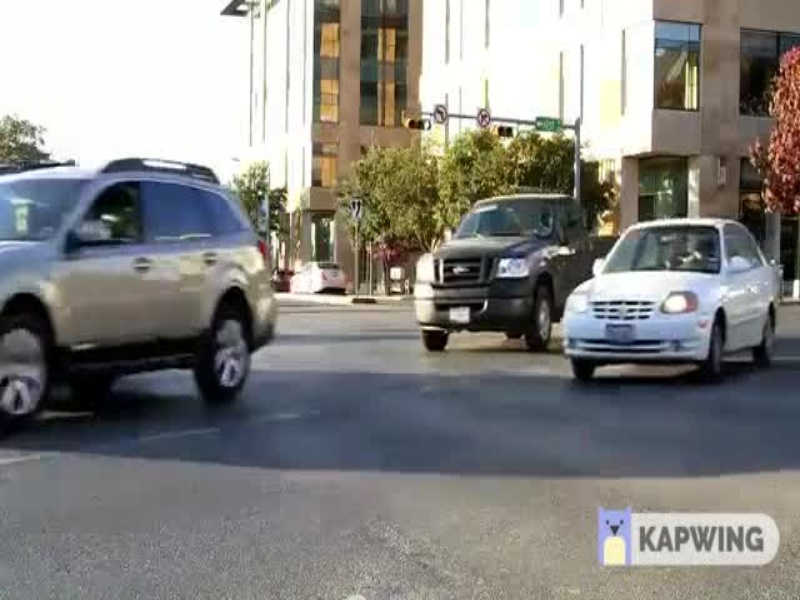car: (1, 157, 289, 417), (563, 209, 777, 388), (413, 182, 573, 368)
